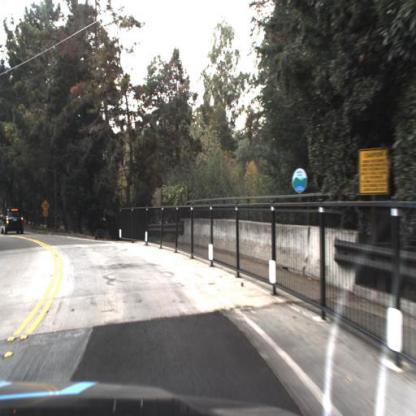car: (0, 207, 24, 234)
